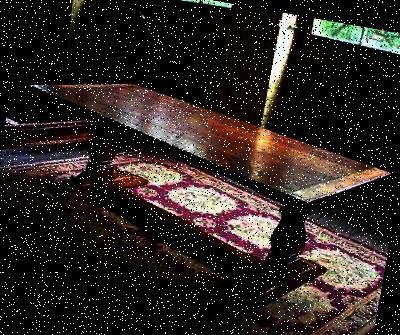Mesa: (0, 63, 398, 334)
